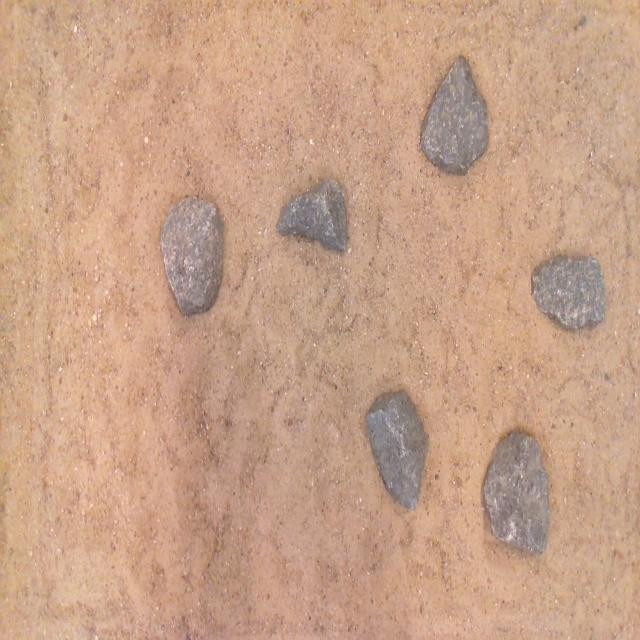rock: (420, 56, 488, 174), (483, 433, 549, 553), (160, 197, 223, 315), (367, 391, 428, 508), (532, 257, 604, 329), (277, 178, 346, 251)
